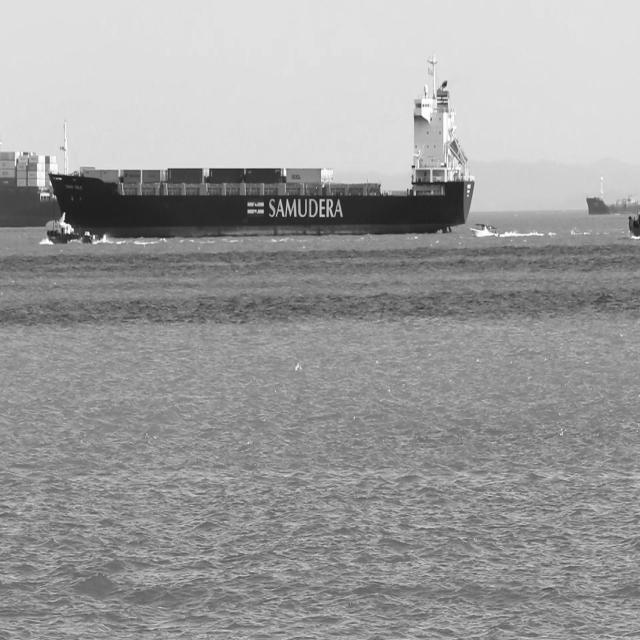ship: (49, 49, 476, 239), (0, 148, 59, 228), (586, 177, 640, 216), (46, 211, 99, 244), (470, 222, 500, 238), (628, 212, 640, 241)
